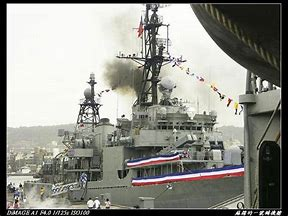smoke: (98, 59, 153, 101)
